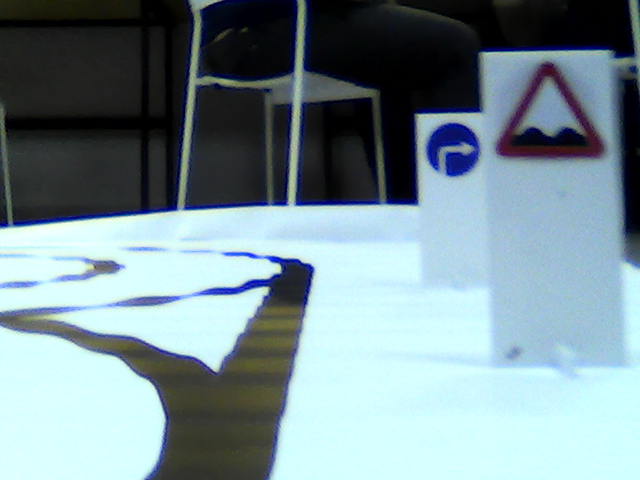Nerov: (496, 59, 608, 161)
Right: (426, 123, 479, 180)
